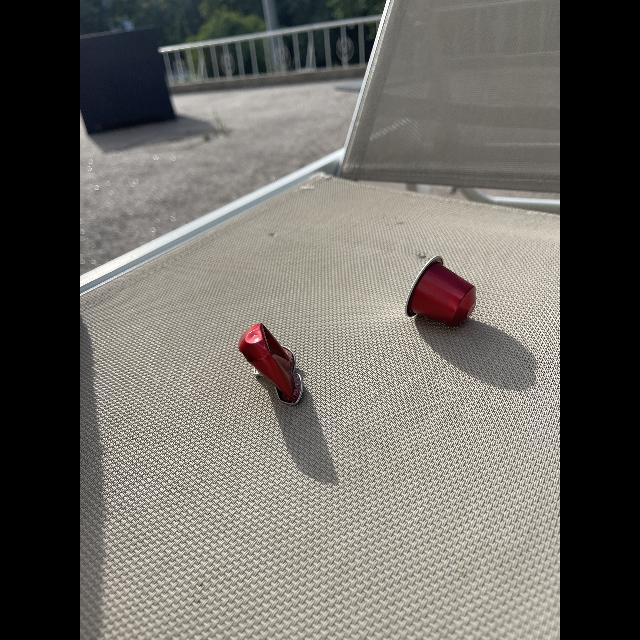damaged_capsule: (236, 321, 308, 407)
intact_capsule: (402, 252, 478, 328)
